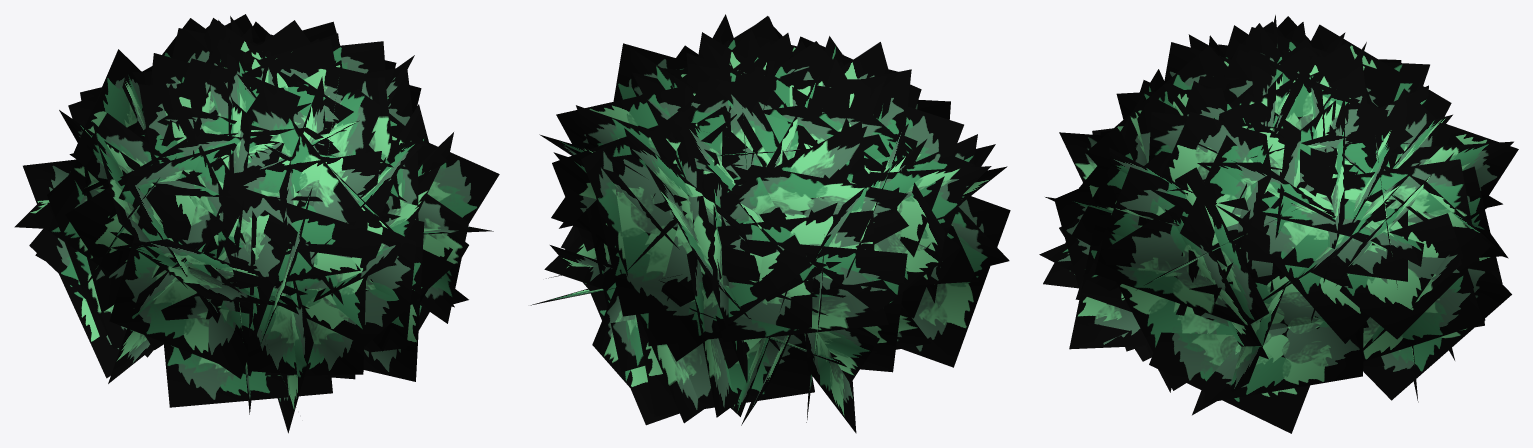
Rendered from bush.fbx.
3 views of the same model, side by side, from view 1: azimuth 30°, elevation 25°; view 2: azimuth 150°, elevation 25°; view 3: azimuth 270°, elevation 25° (orthographic). The views are drawn at different scales.
Visible parts, largest first — view 1: Bush; view 2: Bush; view 3: Bush.
Part boxes in pixels (left/top/right/bottom): Bush: left=14, top=14, right=499, bottom=433; Bush: left=530, top=14, right=1010, bottom=433; Bush: left=1039, top=15, right=1518, bottom=433.
Size of the model in its own units: 231 by 192 by 247.
